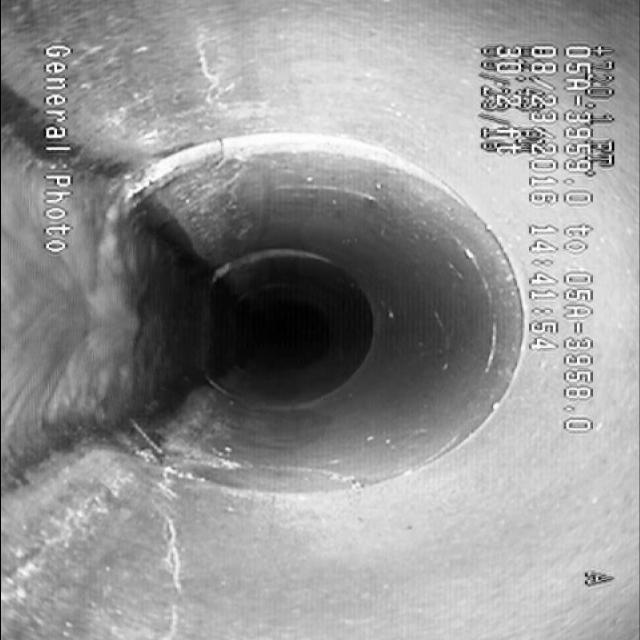Crack: (136, 476, 192, 618), (182, 18, 240, 126)
